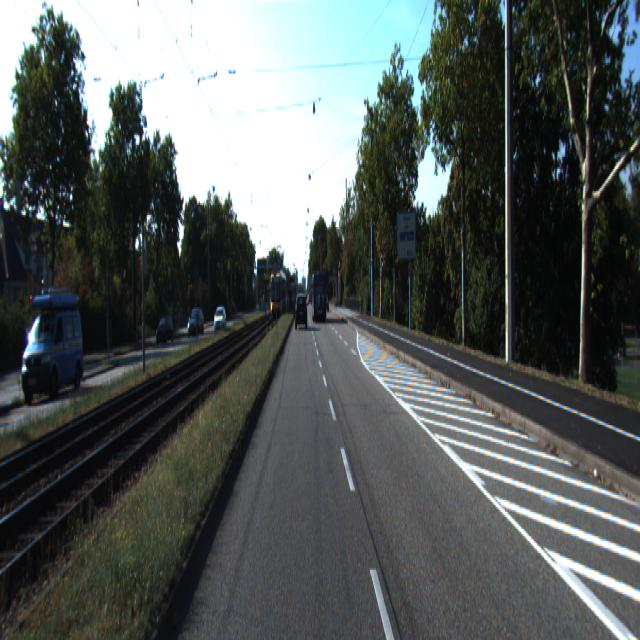Car: (296, 295, 307, 331), (214, 309, 227, 336)
DontCare: (186, 304, 203, 340), (156, 316, 172, 348)
Truck: (312, 272, 328, 322)
Van: (20, 302, 86, 406)
